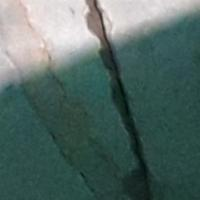crack: (78, 0, 171, 199)
